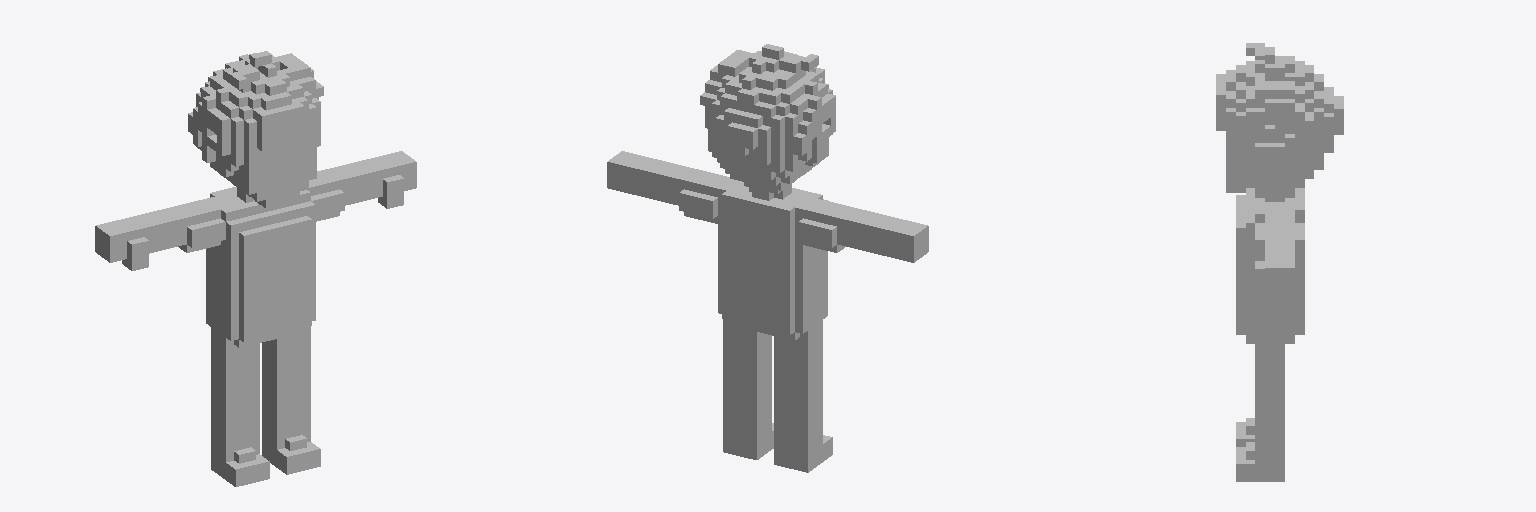
Rendered from Character_1.vox.obj.
3 views of the same model, side by side, from view 1: azimuth 30°, elevation 25°; view 2: azimuth 150°, elevation 25°; view 3: azimuth 270°, elevation 25° (orthographic).
Visible parts, largest first — view 1: object 1; view 2: object 1; view 3: object 1.
Boxes of the visible parts, <box> form: object 1: <box>95,51,416,486</box>; object 1: <box>607,44,928,472</box>; object 1: <box>1216,43,1343,481</box>.
Bounding box in the file's own units: 3.6 × 4.6 × 1.3.